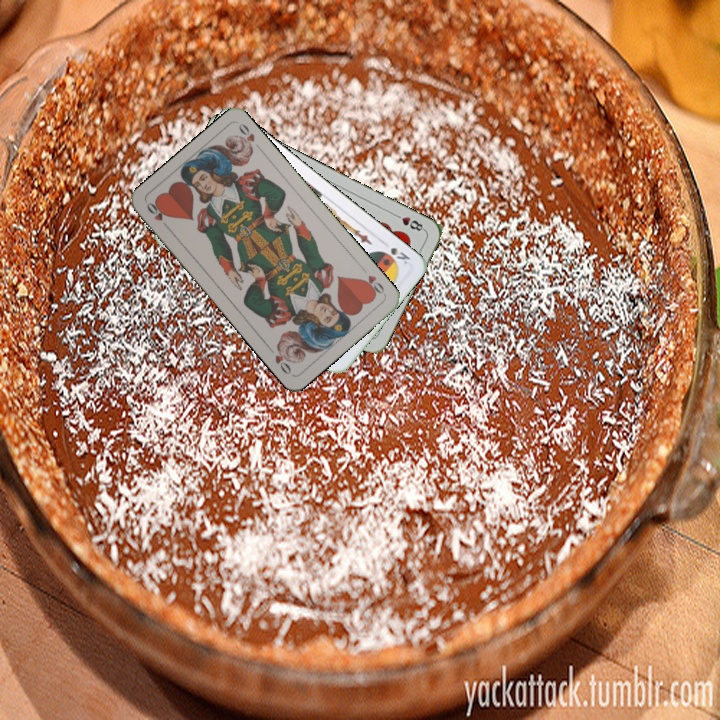H8: (390, 210, 428, 234)
HO: (142, 198, 173, 233), (357, 271, 387, 299)
SK: (386, 243, 413, 267)
